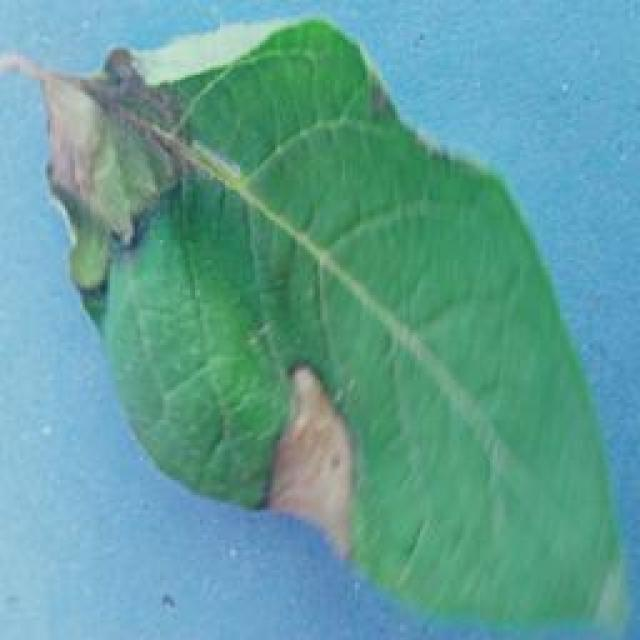Potato_Late_Blight: (29, 25, 628, 625)
